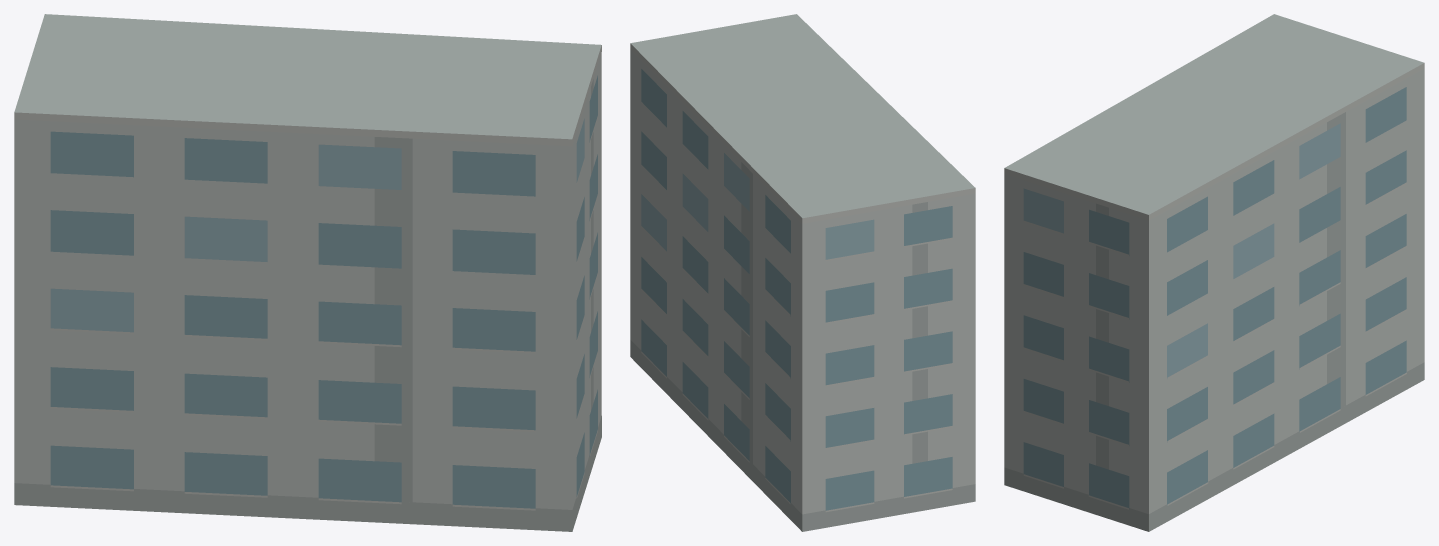
Rendered from survey-upis-32767484.glb.
The picture shows the model from 3 angles, left to right: view 1: azimuth 30°, elevation 25°; view 2: azimuth 150°, elevation 25°; view 3: azimuth 270°, elevation 25°; orthographic projection. The views are drawn at different scales.
Visible parts, largest first — view 1: survey-upis-32767484.tmp; view 2: survey-upis-32767484.tmp; view 3: survey-upis-32767484.tmp.
Boxes of the visible parts, bbox=[...] form: survey-upis-32767484.tmp: bbox=[14, 14, 601, 531]; survey-upis-32767484.tmp: bbox=[630, 14, 975, 531]; survey-upis-32767484.tmp: bbox=[1004, 14, 1424, 531].
Size of the model in its own units: 18.49 by 13.6 by 16.35.
